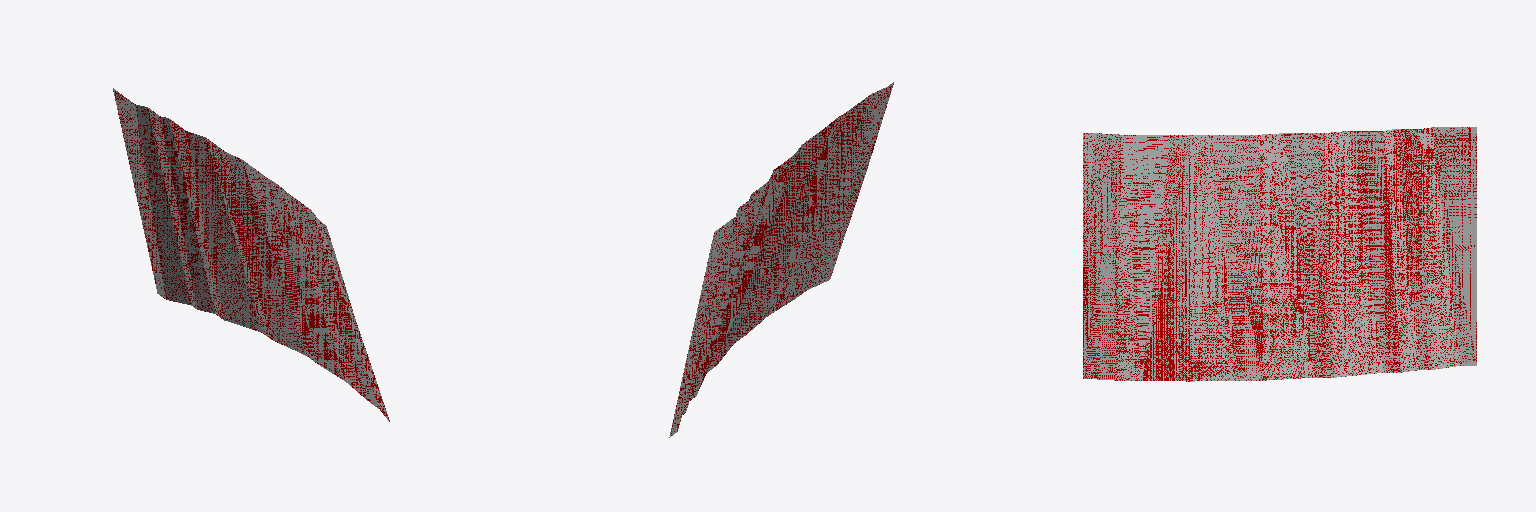
The model's file is original-122.obj.
3 views of the same model, side by side, from view 1: azimuth 30°, elevation 25°; view 2: azimuth 150°, elevation 25°; view 3: azimuth 270°, elevation 25° (orthographic).
Parts seen in each view (by area): view 1: #ID550; view 2: #ID550; view 3: #ID550.
Boxes of the visible parts, x1,y1,x2,y2 form: #ID550: [113, 88, 389, 421]; #ID550: [669, 82, 893, 437]; #ID550: [1083, 127, 1476, 381].
Bounding box in the file's own units: 0.004 × 0.0095 × 0.0155.